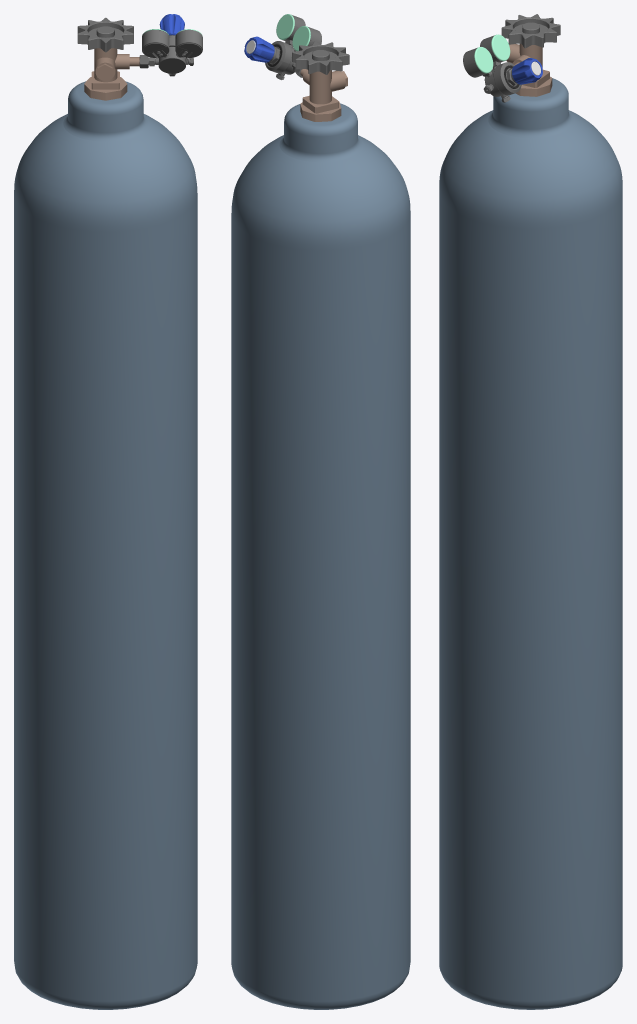
Rendered from sensor7.glb.
3 views of the same model, side by side, from view 1: azimuth 30°, elevation 25°; view 2: azimuth 150°, elevation 25°; view 3: azimuth 270°, elevation 25° (orthographic). The views are drawn at different scales.
Visible parts, largest first — view 1: 气瓶, 减压阀; view 2: 气瓶, 减压阀; view 3: 气瓶, 减压阀.
Part boxes in pixels (box(x1,y1,x2,y2)): 气瓶: box(14, 17, 197, 1009); 减压阀: box(139, 14, 202, 76); 气瓶: box(231, 41, 410, 1009); 减压阀: box(244, 14, 321, 80); 气瓶: box(439, 14, 622, 1009); 减压阀: box(463, 34, 542, 102).
Size of the model in its own units: 0.2244 by 1.29 by 0.2235.
